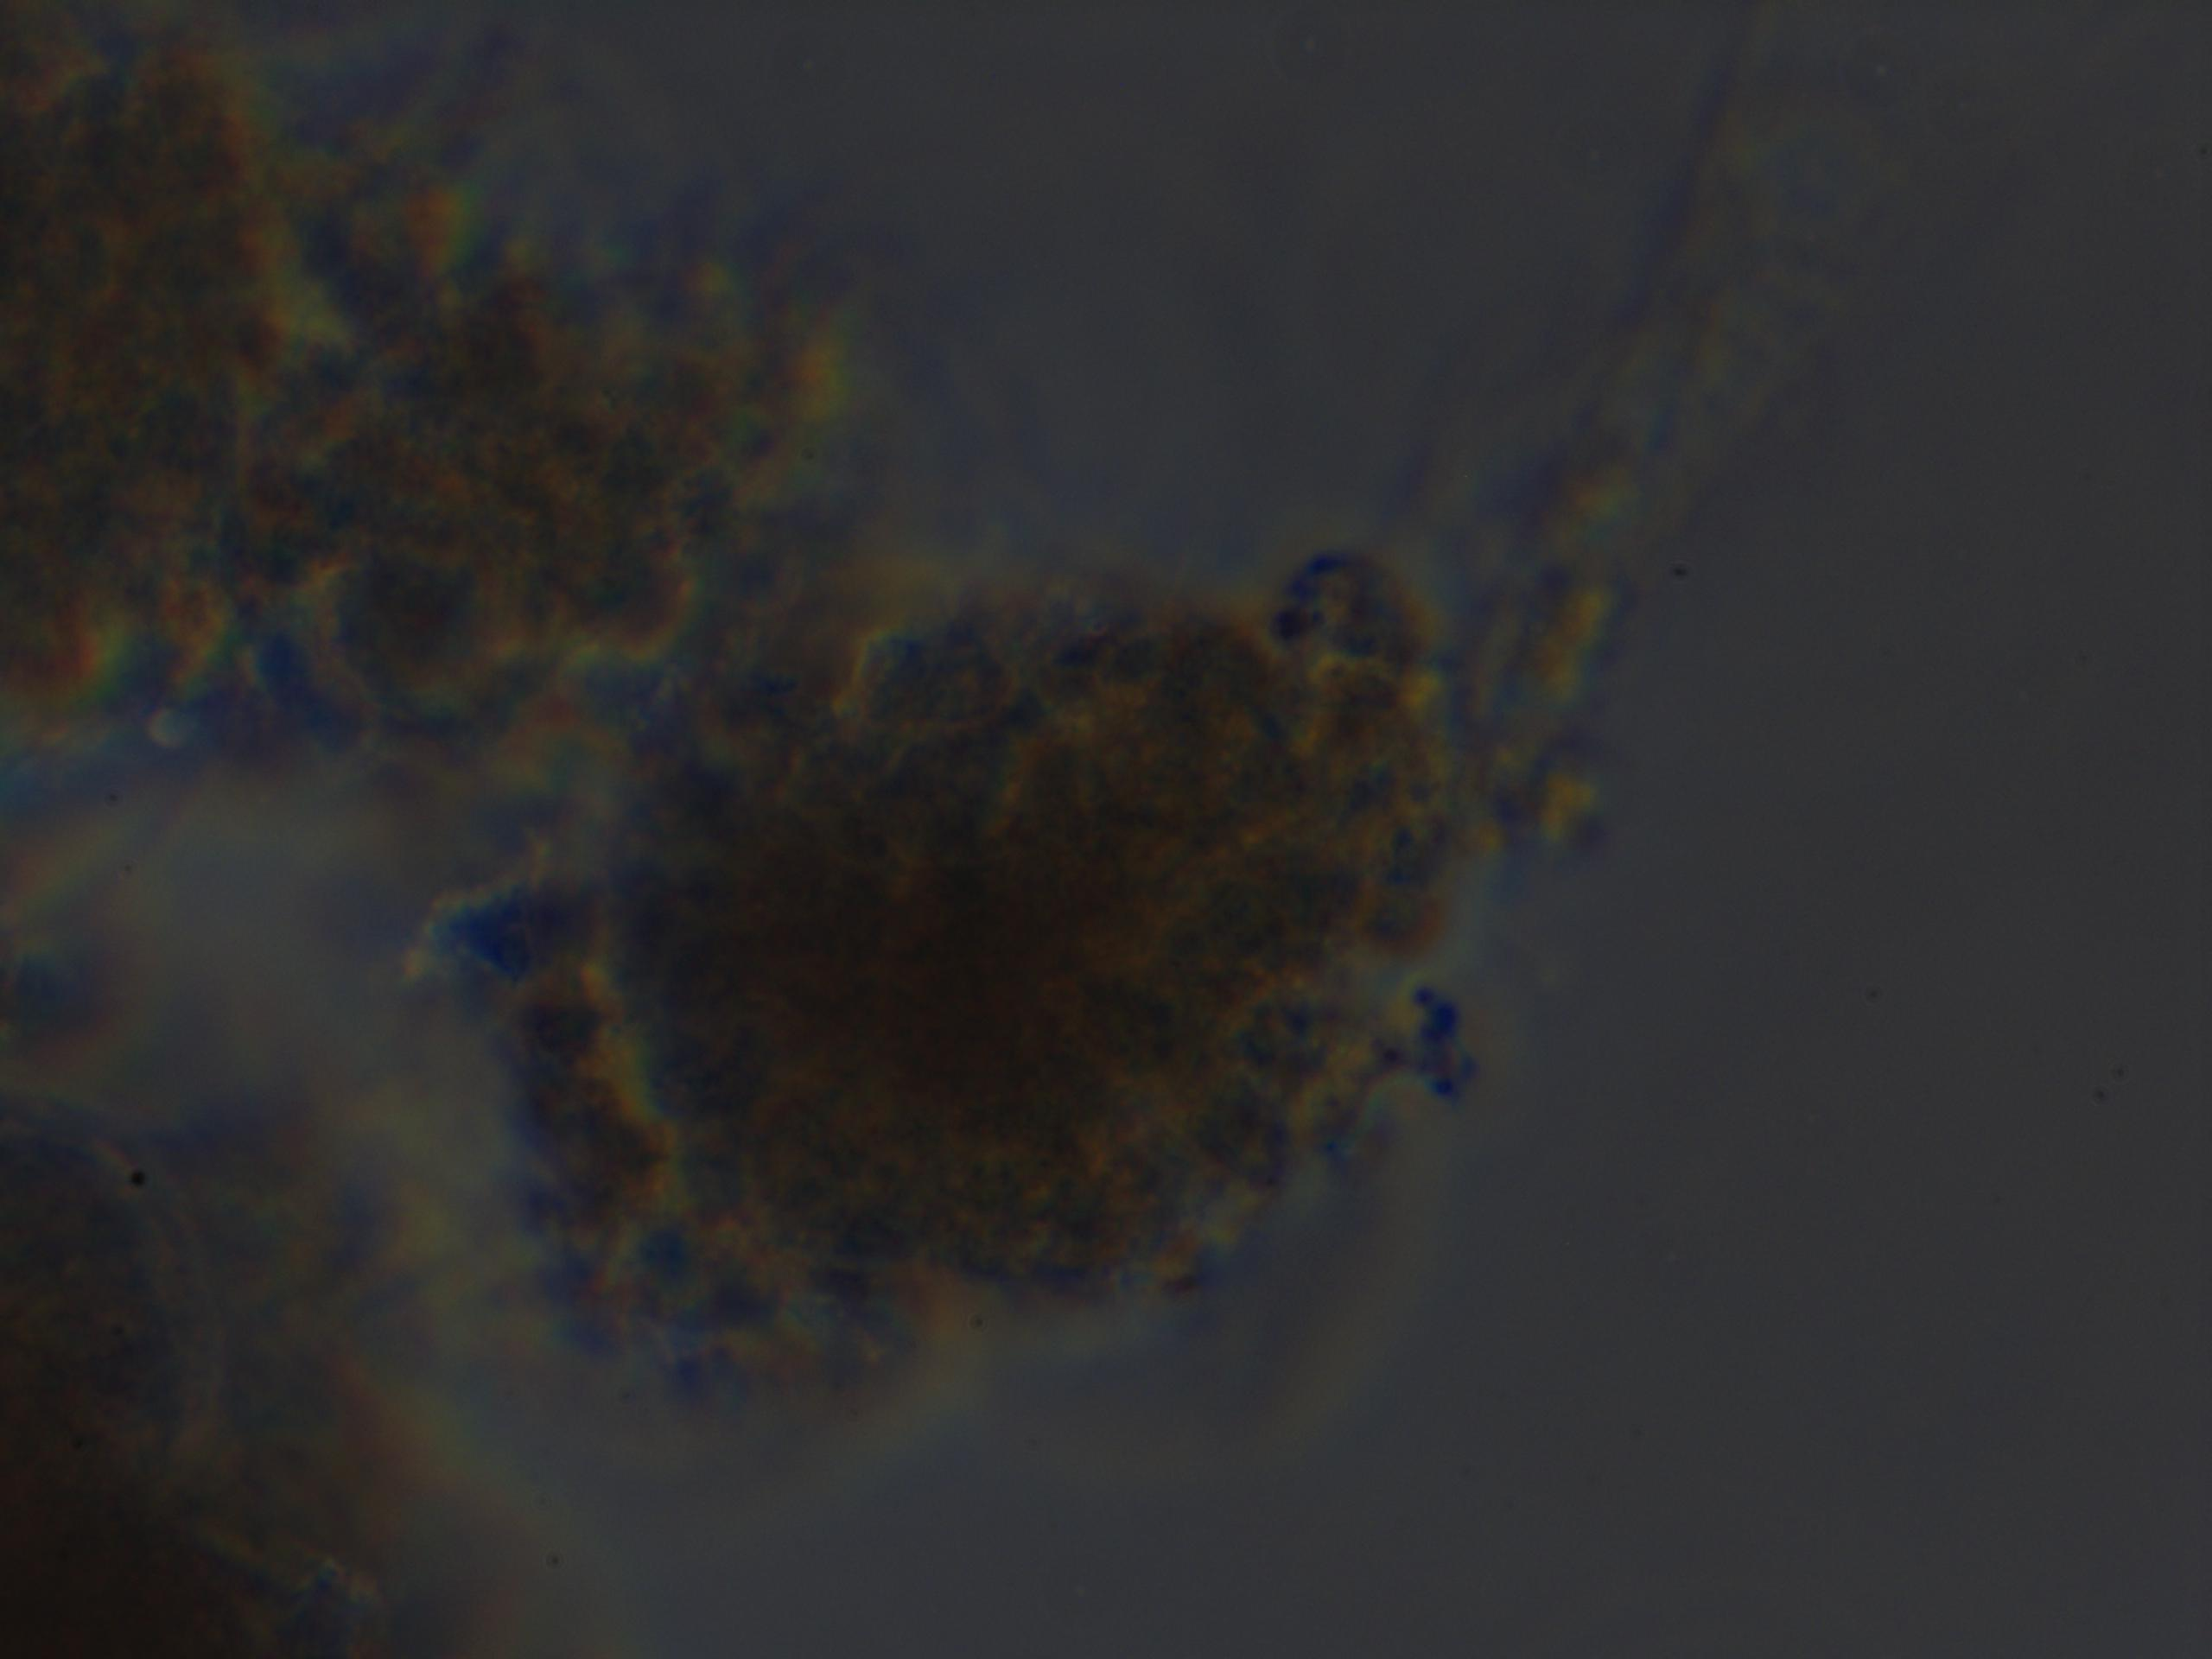filament: (1477, 0, 1848, 809)
spherical_floc: (467, 537, 1489, 1427)
